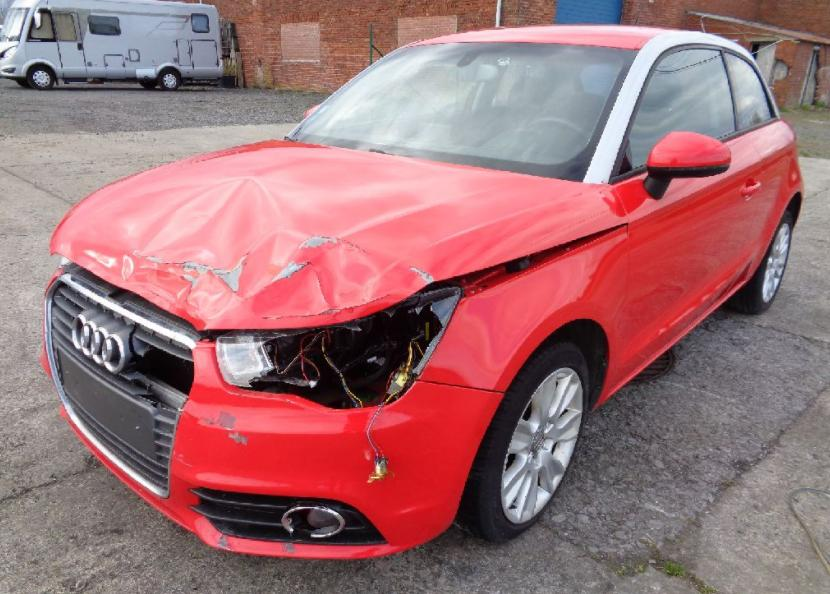Back-door: (722, 48, 794, 296)
Back-wheel: (722, 212, 794, 314)
Back-window: (725, 51, 773, 128)
Fender: (418, 224, 629, 410)
Front-bumper: (161, 344, 504, 559)
Front-door: (612, 43, 763, 382)
Front-wheel: (454, 340, 589, 543)
Front-window: (618, 50, 736, 175)
Grille: (45, 276, 195, 497)
Headlight: (214, 293, 459, 410)
Hood: (50, 140, 630, 331)
Mirror: (642, 131, 732, 201)
Quarter-panel: (777, 118, 806, 198)
Roof: (411, 24, 686, 50)
Windshield: (284, 43, 639, 182)
